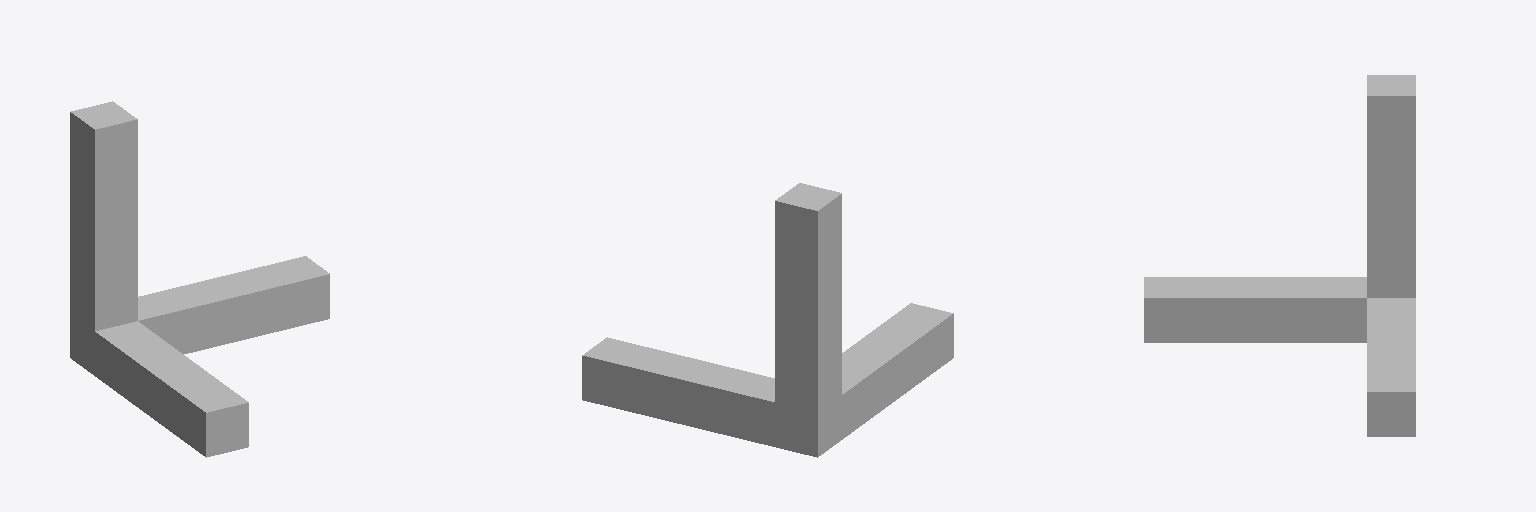
Rendered from xyzaxis.obj.
The picture shows the model from 3 angles: view 1: azimuth 30°, elevation 25°; view 2: azimuth 150°, elevation 25°; view 3: azimuth 270°, elevation 25°; orthographic projection.
Bounding box in the file's own units: 1.1 × 1.1 × 1.1.